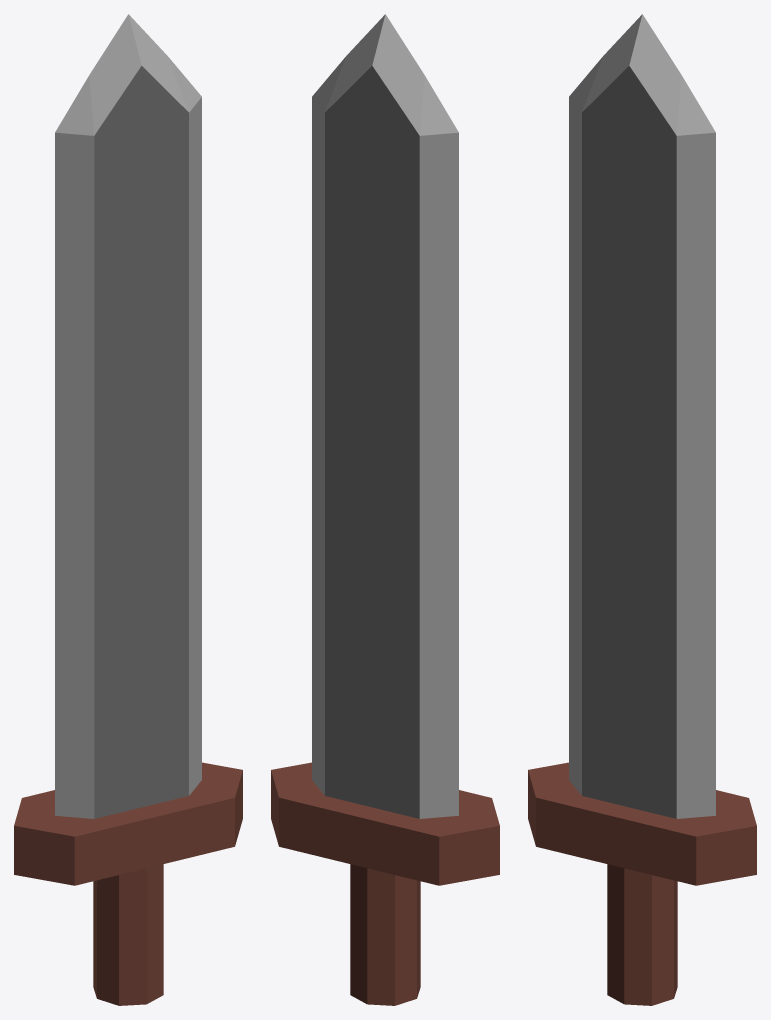
Rendered from Sword.fbx.
The picture shows the model from 3 angles, left to right: view 1: azimuth 30°, elevation 25°; view 2: azimuth 150°, elevation 25°; view 3: azimuth 330°, elevation 25°; orthographic projection.
Visible parts, largest first — view 1: Sword; view 2: Sword; view 3: Sword.
Boxes of the visible parts, box(x1,y1,x2,y2) form: Sword: box(14, 14, 242, 1005); Sword: box(271, 14, 499, 1005); Sword: box(528, 14, 756, 1005).
Size of the model in its own units: 200 by 816 by 80.
